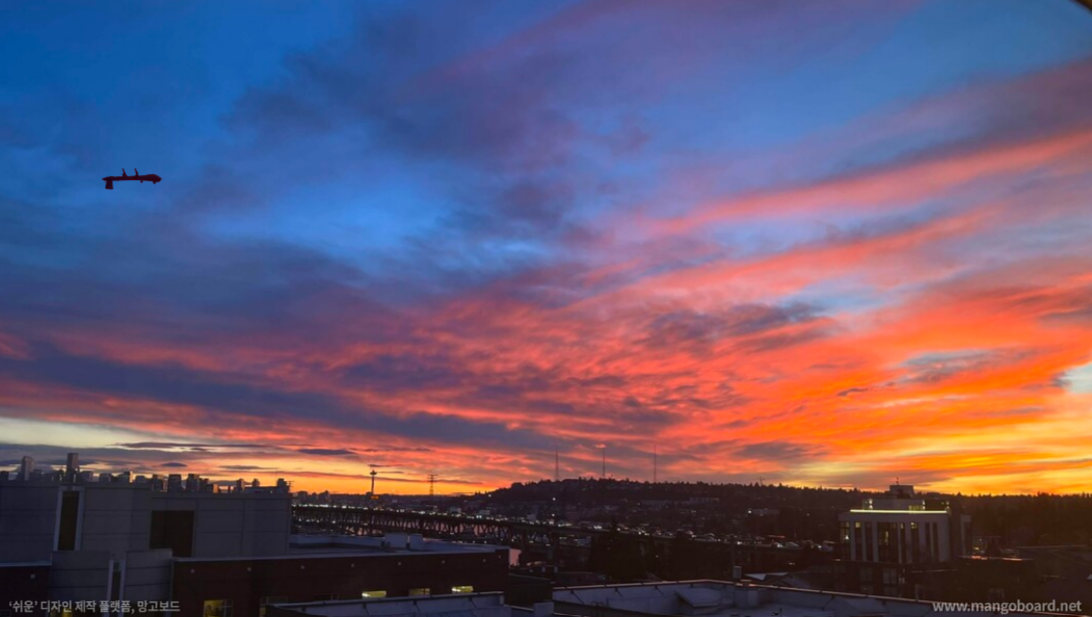military drone: (101, 167, 162, 189)
